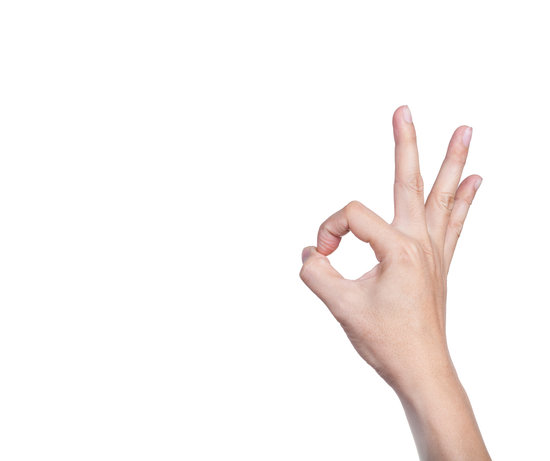oksign: (298, 104, 478, 362)
